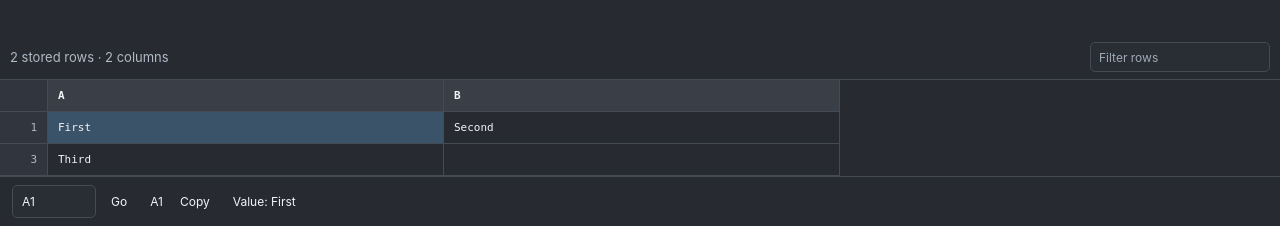
Test: reports clipboard failures instead of claiming a successful copy
Click the button "Copy": {"x": 195, "y": 202} [169,187,221,216]
(page scrolled)
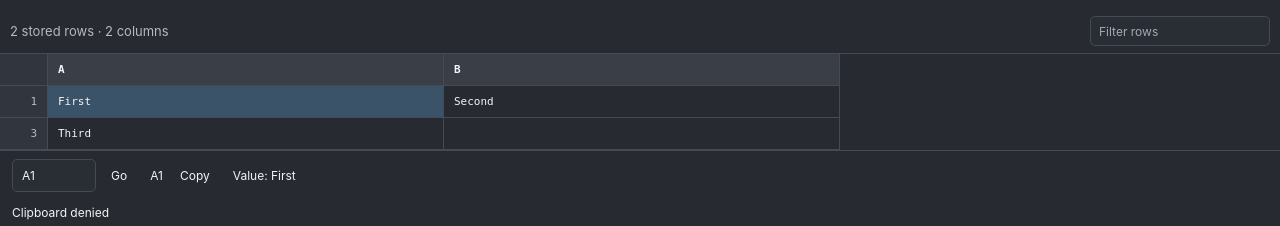
Now the text "Clipboard denied" is shown, box [12,205,109,220]
